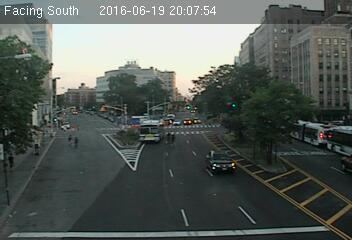neg: (130, 122, 150, 149), (111, 129, 125, 149)
pos: (1, 150, 19, 173)
